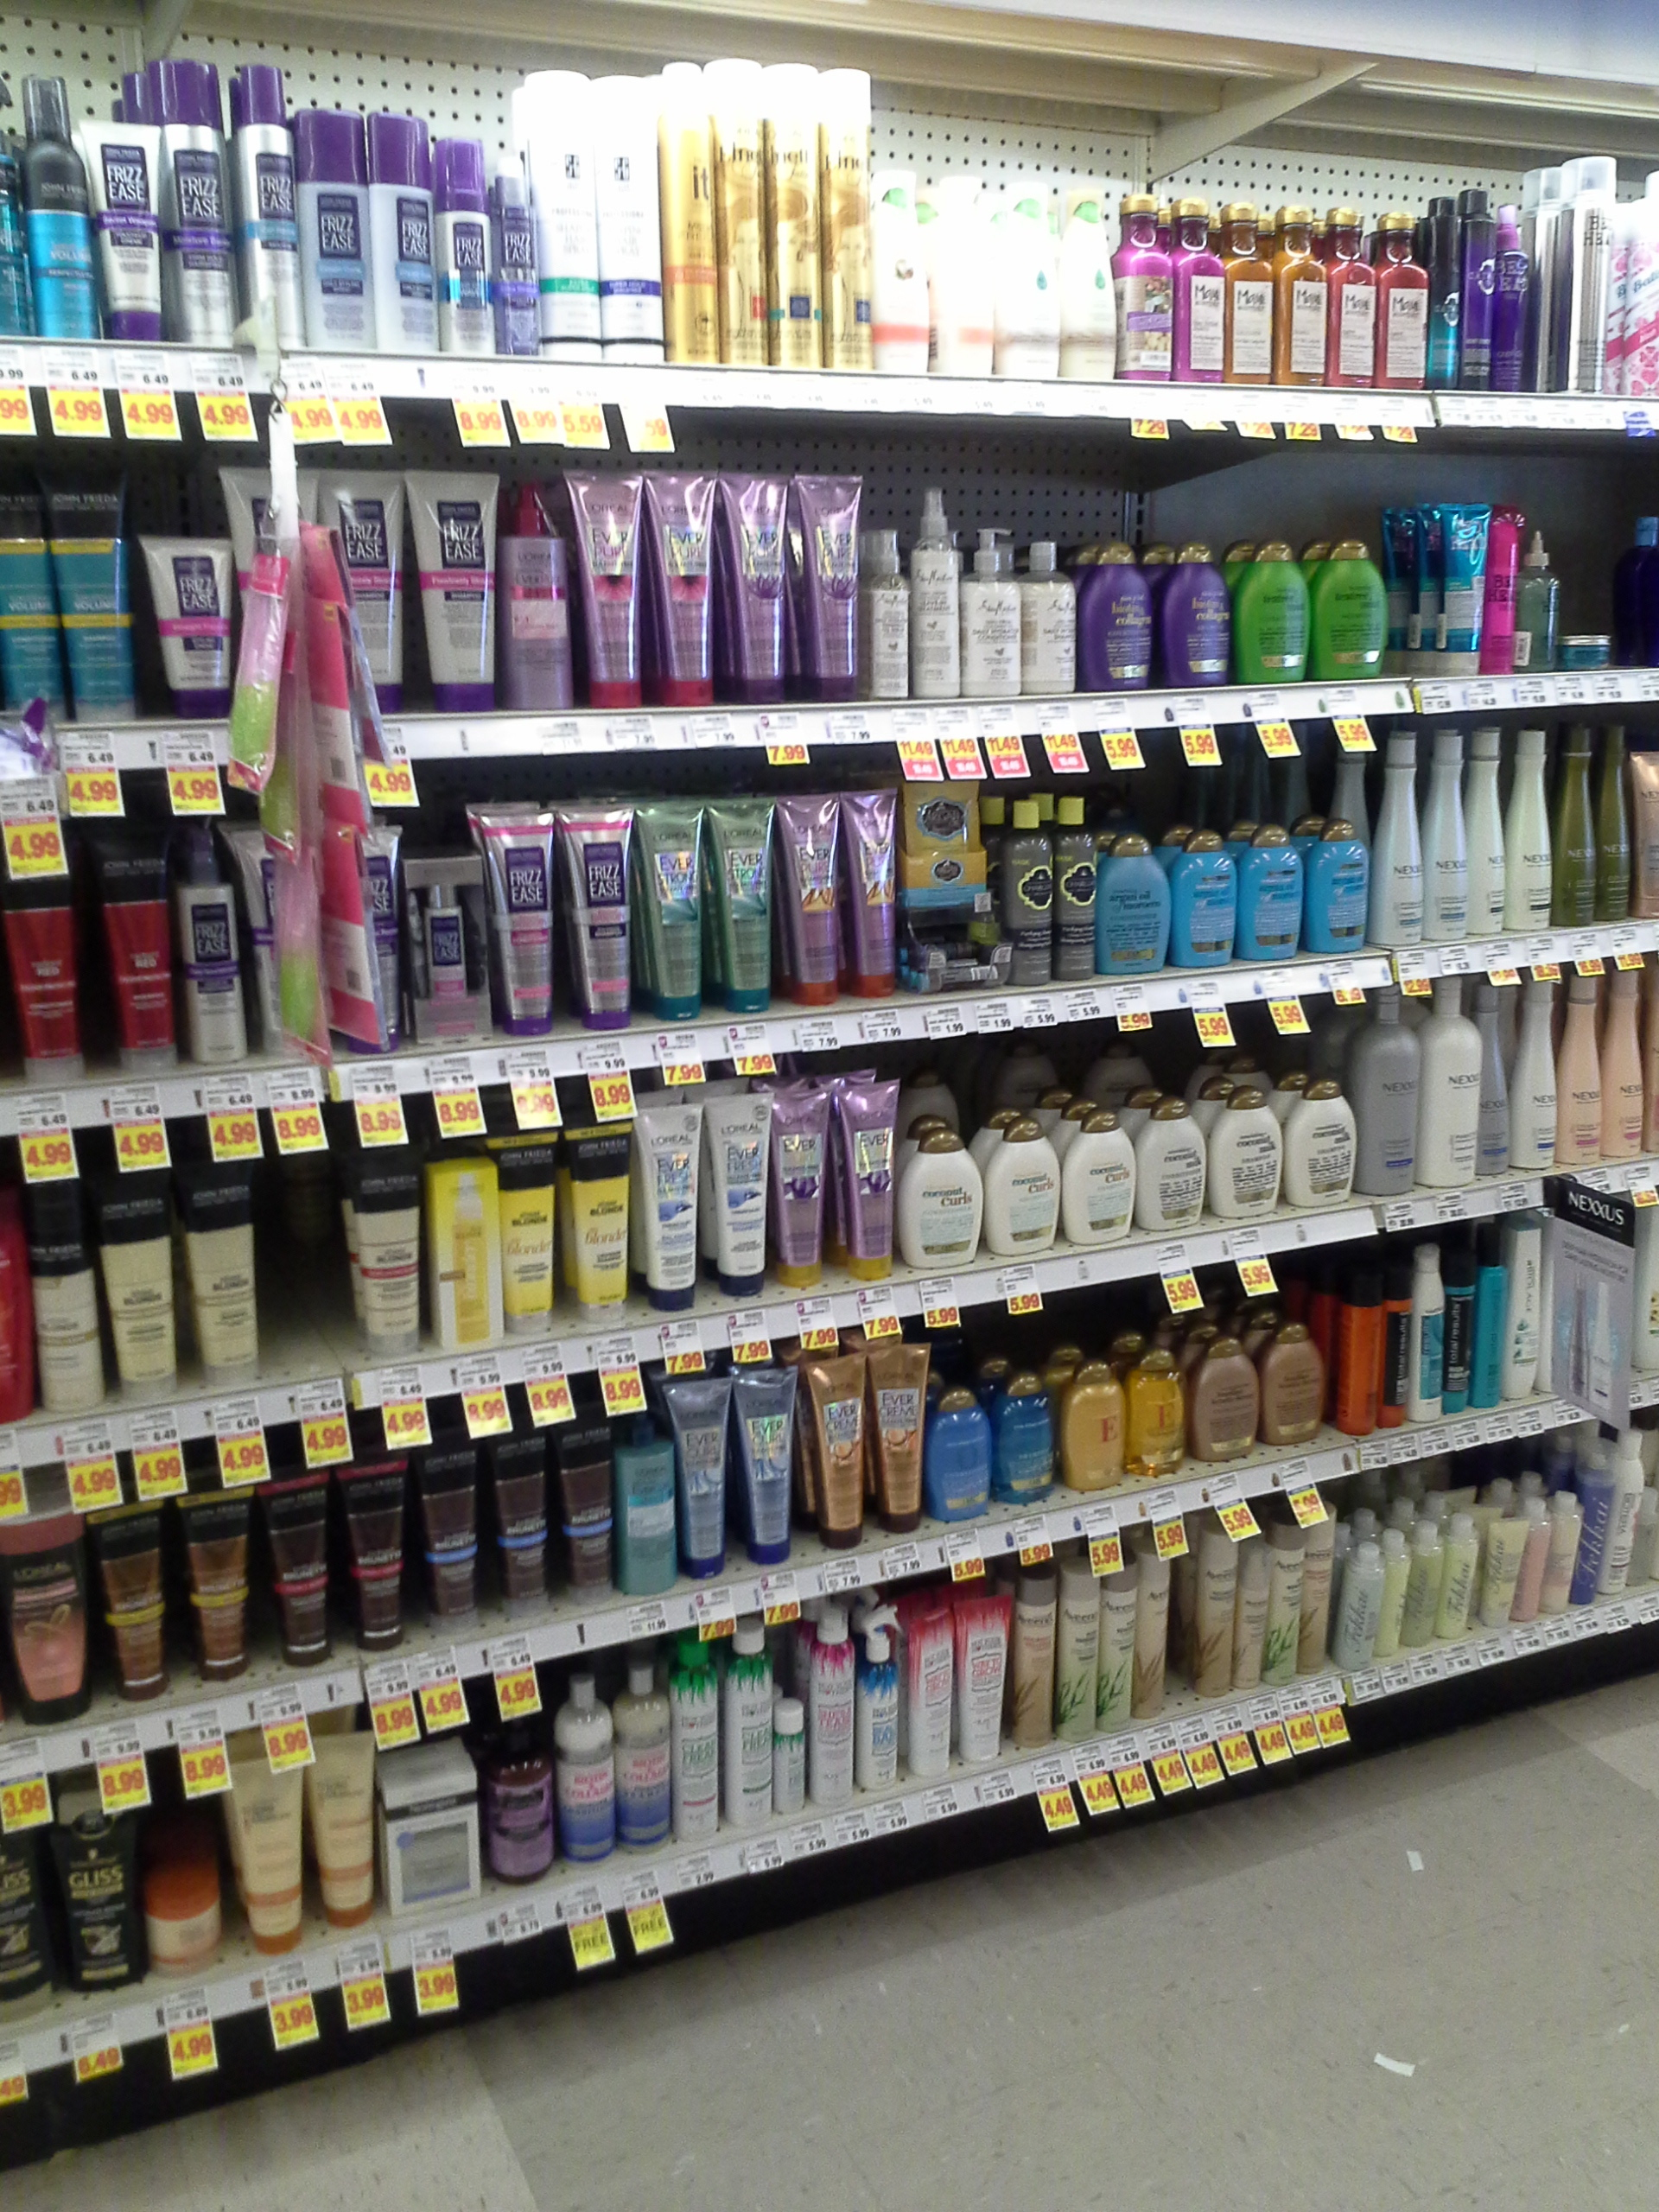Out-of-stock: (270, 1143, 349, 1428), (1169, 1529, 1208, 1745)
